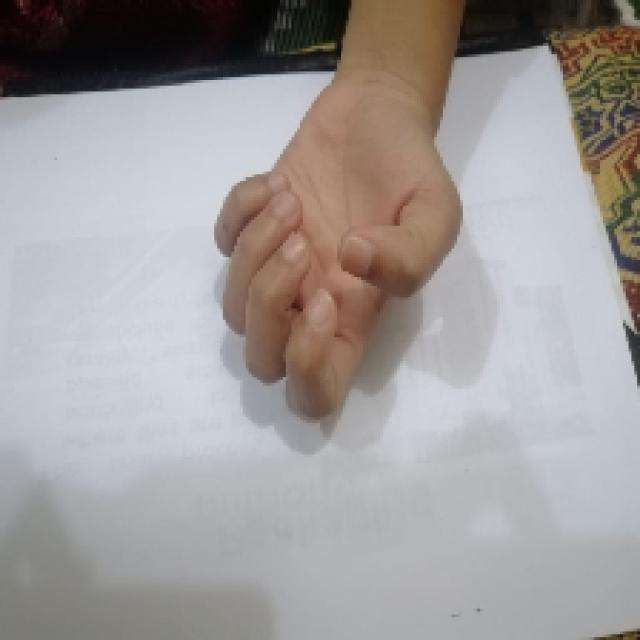Nail: (337, 235, 375, 275), (280, 234, 308, 264), (307, 289, 333, 318), (271, 192, 298, 217), (268, 172, 286, 187)
